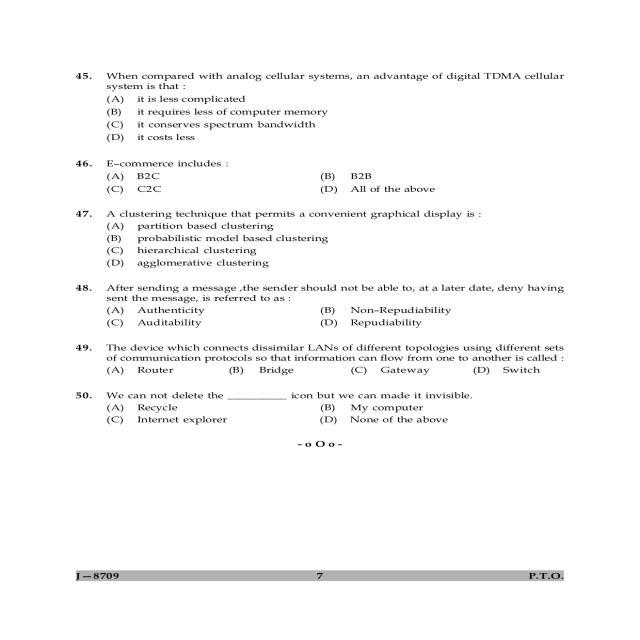Answer_Block: (68, 91, 584, 144), (67, 220, 584, 270), (68, 402, 582, 435), (68, 170, 582, 199), (67, 304, 584, 332), (68, 364, 583, 379)
Question_Answer_Block: (68, 63, 584, 144), (67, 206, 583, 270), (67, 278, 583, 332), (69, 387, 584, 435), (67, 155, 583, 199), (68, 340, 583, 379)
Question_Block: (68, 63, 584, 91), (66, 279, 584, 303), (67, 341, 584, 364), (67, 204, 584, 220), (67, 155, 584, 171), (68, 387, 583, 401)
Question_Paper_Area: (69, 64, 584, 436)
